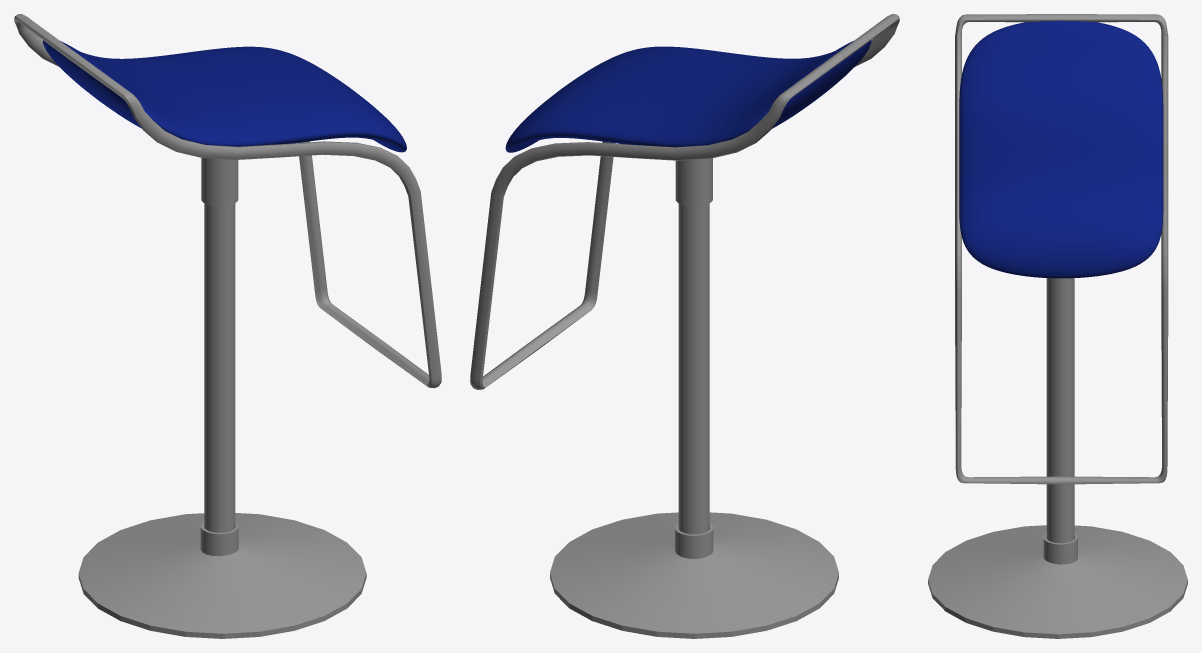
Rendered from 吧台椅子.FBX.
The picture shows the model from 3 angles, left to right: view 1: azimuth 30°, elevation 25°; view 2: azimuth 150°, elevation 25°; view 3: azimuth 270°, elevation 25°; orthographic projection. The views are drawn at different scales.
Visible parts, largest first — view 1: Line003, Line002, 对象001; view 2: Line003, Line002, 对象001; view 3: Line002, Line003, 对象001.
Part boxes in pixels (<box>): Line003: <box>14,14,441,638</box>; Line002: <box>43,40,406,152</box>; 对象001: <box>200,521,238,556</box>; Line003: <box>470,14,899,638</box>; Line002: <box>505,40,871,152</box>; 对象001: <box>675,523,713,558</box>; Line002: <box>959,20,1163,278</box>; Line003: <box>928,14,1187,638</box>; 对象001: <box>1043,533,1077,564</box>.
Size of the model in its own units: 123 by 207 by 96.45.
